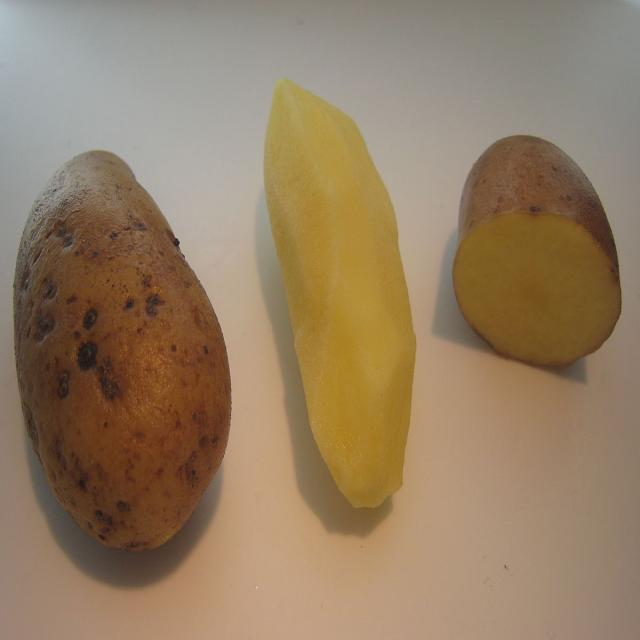potato: (11, 148, 238, 559)
